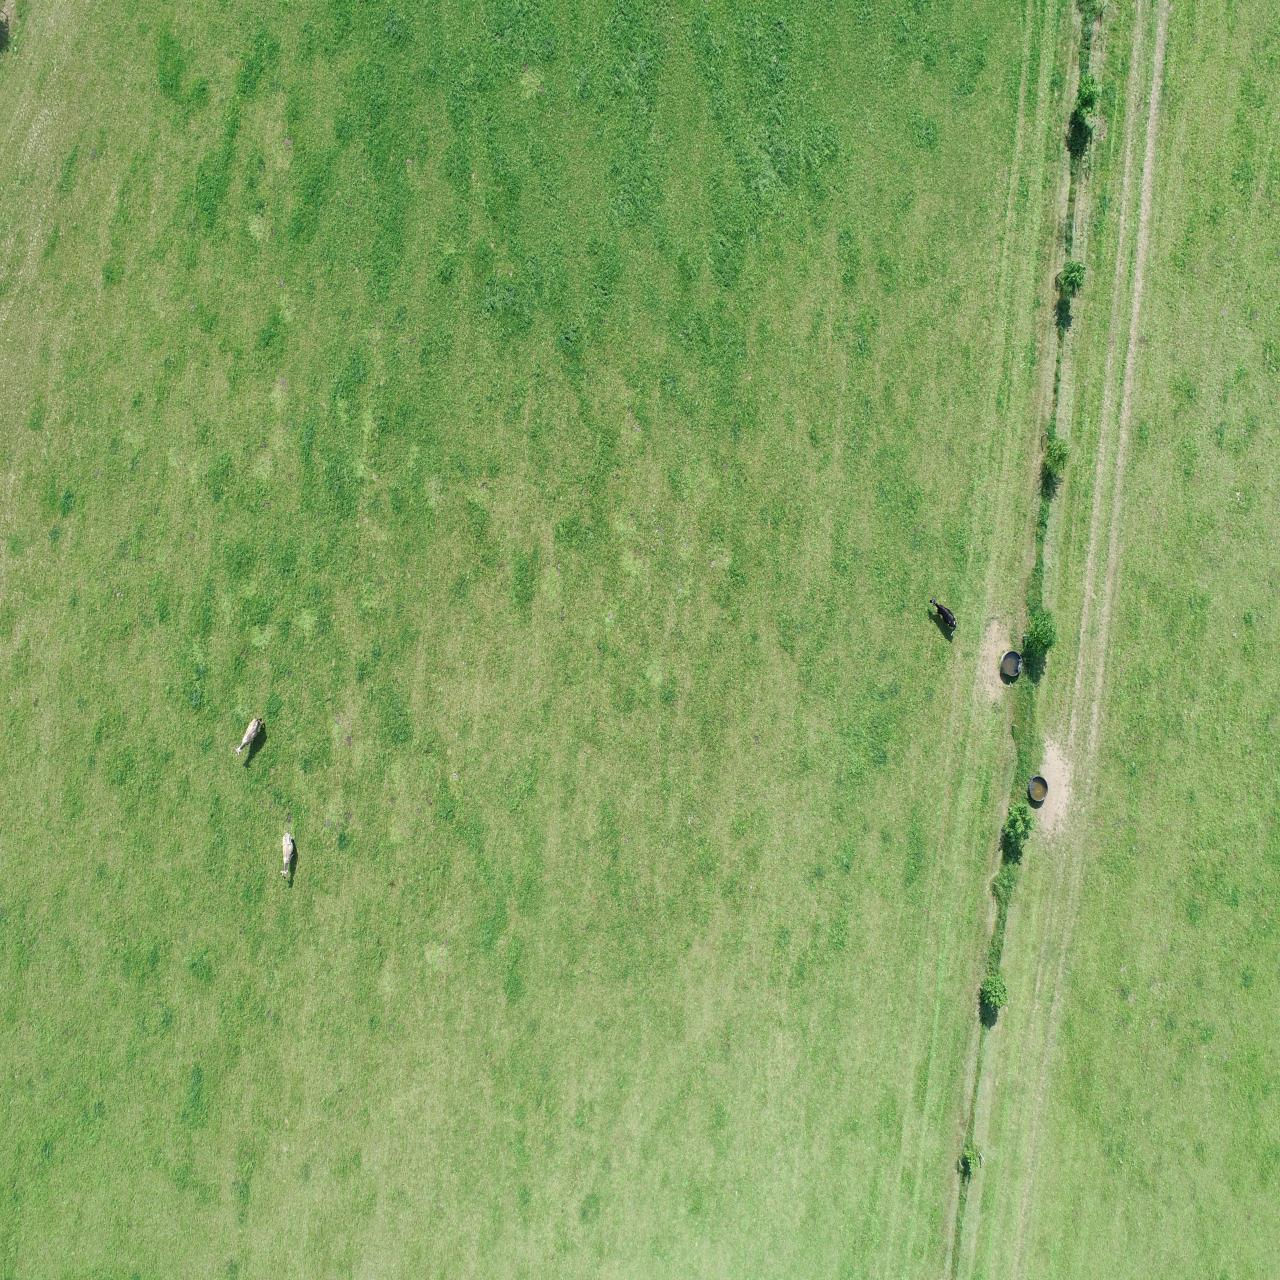cow: (232, 715, 270, 757), (927, 594, 959, 639), (280, 829, 297, 886)
